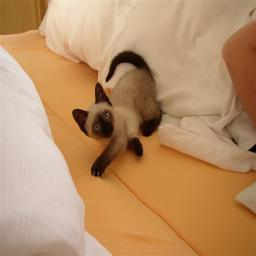catnose: (104, 125, 111, 134)
